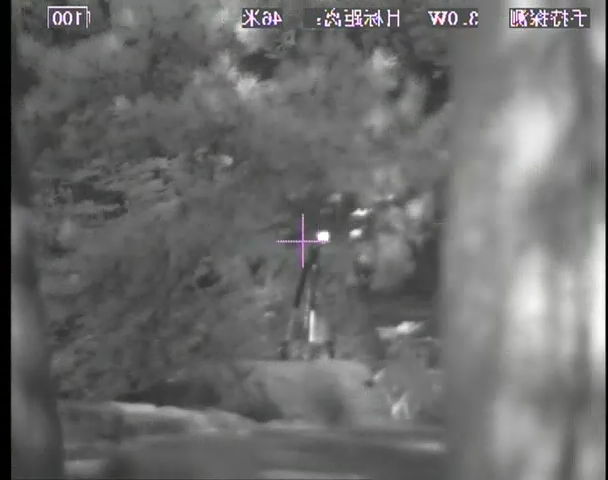my: (316, 229, 331, 244)
